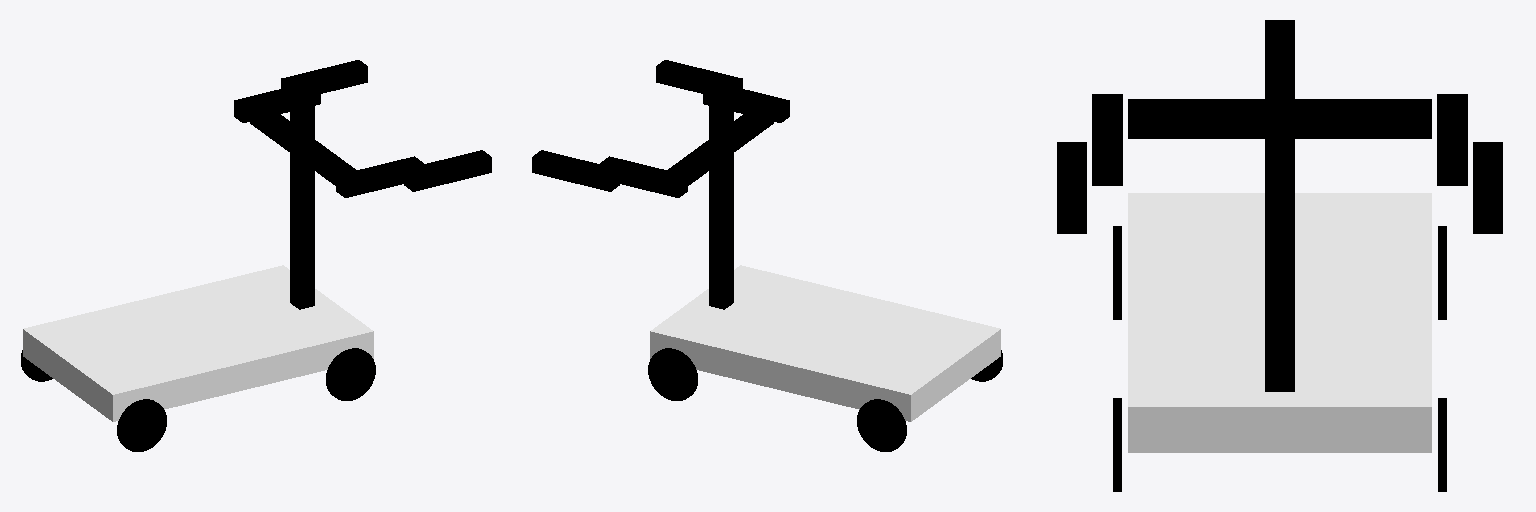
The robot description file, URDF, robot "test_robot":
<?xml version="1.0"?>
<robot name="test_robot">

  <link name="base_link">
    <visual>
      <geometry>
        <box size="0.5 0.3 0.05"/>
      </geometry>
      <origin rpy="0 0 0" xyz="0 0 0.085"/>
      <material name="white">
        <color rgba="1 1 1 1"/>
      </material>
    </visual>
  </link>
  
  <link name="lfwheel">
    <visual>
      <geometry>
        <cylinder length="0.008" radius="0.046"/>
      </geometry>
      <origin rpy="1.5708 0 0" xyz="0 0 0"/>
      <material name="black">
        <color rgba="0 0 0 1"/>
      </material>
    </visual>
  </link>
  
  <joint name="base_to_lfwheel" type="continuous">
    <parent link="base_link"/>
    <child link="lfwheel"/>
    <axis rpy="0 0 0" xyz="0 1 0"/>
    <origin xyz=".2 0.16 0.046" rpy="0 0 0"/>
  </joint>
  

 <link name="lbwheel">
    <visual>
      <geometry>
        <cylinder length="0.008" radius="0.046"/>
      </geometry>
      <origin rpy="1.5708 0 0" xyz="0 0 0"/>
      <material name="black">
        <color rgba="0 0 0 1"/>
      </material>
    </visual>
  </link>
  
  <joint name="base_to_lbwheel" type="continuous">
    <parent link="base_link"/>
    <child link="lbwheel"/>
    <axis rpy="0 0 0" xyz="0 1 0"/>
    <origin xyz="-.2 0.16 0.046" rpy="0 0 0"/>
  </joint>
  

  <link name="rfwheel">
    <visual>
      <geometry>
        <cylinder length="0.008" radius="0.046"/>
      </geometry>
      <origin rpy="1.5708 0 0" xyz="0 0 0"/>
      <material name="black">
        <color rgba="0 0 0 1"/>
      </material>
    </visual>
  </link>
  
  <joint name="base_to_rfwheel" type="continuous">
    <parent link="base_link"/>
    <child link="rfwheel"/>
    <axis rpy="0 0 0" xyz="0 1 0"/>
    <origin xyz= ".2 -0.16 0.046" rpy="0 0 0"/>
  </joint>

 <link name="rbwheel">
    <visual>
      <geometry>
        <cylinder length="0.008" radius="0.046"/>
      </geometry>
      <origin rpy="1.5708 0 0" xyz="0 0 0"/>
      <material name="black">
        <color rgba="0 0 0 1"/>
      </material>
    </visual>
  </link>
  
  <joint name="base_to_rbwheel" type="continuous">
    <parent link="base_link"/>
    <child link="rbwheel"/>
    <axis rpy="0 0 0" xyz="0 1 0"/>
    <origin xyz="-.2 -0.16 0.046" rpy="0 0 0"/>
  </joint>

  <link name="post">
    <visual>
      <geometry>
        <box size=".03 .03 .4"/>
      </geometry>
      <origin rpy="0 0 0" xyz="0 0 .2"/>
      <material name="black">
        <color rgba="0 0 0 1"/>
      </material>
    </visual>
  </link>

  <joint name="post_to_chassis" type="fixed">
    <parent link="base_link"/>
    <child link="post"/>
    <origin xyz=".2 0 .1" rpy="0 0 0"/>
  </joint>
 
  <link name="cross">
    <visual>
      <geometry>
        <box size=".03 .3 .03"/>
      </geometry>
      <origin rpy="0 0 0" xyz="0 0 0"/>
      <material name="black">
        <color rgba="0 0 0 1"/>
      </material>
    </visual>
  </link>

  <joint name="cross_to_post" type="prismatic">
    <parent link="post"/>
    <child link="cross"/>
    <axis xyz="0 0 1"/>
     <limit effort="1000.0" lower="-.2" upper="0" velocity="0.5"/>
    <origin xyz="0 0 .3" rpy="0 0 0"/>
  </joint>



  <link name="upper_arm_l">
    <visual>
      <geometry>
        <box size=".15 .03 .03"/>
      </geometry>
      <origin rpy="0 0 0" xyz=".05 0 0"/>
      <material name="white">
        <color rgba="0 0 0 0"/>
      </material>
    </visual>
  </link>

  <joint name="upper_arm_l_to_cross" type="revolute">
    <parent link="cross"/>
    <child link="upper_arm_l"/>
    <axis xyz="0 1 0"/>
    <limit effort="1000.0" lower="0.0" upper="-0.7" velocity="0.5"/>
    <origin xyz="0 .17 0" rpy="0 0 0"/>
  </joint>

  <link name="forearm_l">
    <visual>
      <geometry>
        <box size=".15 .03 .03"/>
      </geometry>
      <origin rpy="0 0 0" xyz="0.06 0 0"/>
      <material name="black">
        <color rgba="0 0 0 1"/>
      </material>
    </visual>
  </link>

  <joint name="forearm_l_to_upper_arm_l" type="revolute">
    <parent link="upper_arm_l"/>
    <child link="forearm_l"/>
    <axis xyz="0 1 0"/>
   <limit effort="1000.0" lower="0.0" upper="-0.7" velocity="0.5"/>
    <origin xyz=".1 .035 0" rpy="0 0 0"/>
  </joint>

  <link name="upper_arm_r">
    <visual>
      <geometry>
        <box size=".15 .03 .03"/>
      </geometry>
      <origin rpy="0 0 0" xyz=".05 0 0"/>
      <material name="white">
        <color rgba="0 0 0 0"/>
      </material>   
    </visual>
  </link>

  <joint name="upper_arm_r_to_cross" type="revolute">
    <parent link="cross"/>
    <child link="upper_arm_r"/>
    <axis xyz="0 1 0"/>
    <limit effort="1000.0" lower="0.0" upper="-0.7" velocity="0.5"/>
    <origin xyz="0 -.17 0" rpy="0 0 0"/>
  </joint>

  <link name="forearm_r">
    <visual>
      <geometry>
        <box size=".15 .03 .03"/>
      </geometry>
      <origin rpy="0 0 0" xyz=".06 0 0"/>
      <material name="black">
        <color rgba="0 0 0 1"/>
      </material>
    </visual>
  </link>

  <joint name="forearm_r_to_upper_arm_r" type="revolute">
    <parent link="upper_arm_r"/>
    <child link="forearm_r"/>
    <axis xyz="0 1 0"/>
    <limit effort="1000.0" lower="0.0" upper="-0.7" velocity="0.5"/>
    <origin xyz=".1 -.035 0" rpy="0 0 0"/>
  </joint>
  
</robot>

--- Render facts (derived) ---
Views: 3 orthographic renders of the robot side by side, from view 1: azimuth 30°, elevation 25°; view 2: azimuth 150°, elevation 25°; view 3: azimuth 270°, elevation 25°.
Robot: test_robot — 11 links, 10 joints (4 revolute, 4 continuous, 1 prismatic, 1 fixed); root link base_link; default pose: every joint at zero.
Visible links, largest first — view 1: base_link, post, cross, forearm_r, rfwheel, rbwheel, upper_arm_r, forearm_l, upper_arm_l; view 2: base_link, post, cross, forearm_l, lfwheel, lbwheel, upper_arm_l, forearm_r, upper_arm_r; view 3: base_link, cross, post, upper_arm_l, upper_arm_r, forearm_l, forearm_r, lfwheel, lbwheel, rfwheel, rbwheel.
Link boxes in pixels (box(x1,y1,x2,y2)): base_link: box(23, 265, 373, 421); post: box(290, 86, 314, 309); cross: box(250, 103, 355, 185); forearm_r: box(404, 150, 491, 191); rfwheel: box(326, 348, 375, 400); rbwheel: box(117, 399, 166, 451); upper_arm_r: box(336, 156, 423, 197); forearm_l: box(281, 60, 367, 93); upper_arm_l: box(234, 81, 320, 122); base_link: box(650, 265, 1000, 421); post: box(709, 86, 733, 309); cross: box(668, 103, 773, 185); forearm_l: box(532, 150, 619, 191); lfwheel: box(648, 348, 697, 400); lbwheel: box(857, 399, 906, 451); upper_arm_l: box(600, 156, 687, 197); forearm_r: box(656, 60, 742, 93); upper_arm_r: box(703, 81, 789, 122); base_link: box(1128, 193, 1431, 452); cross: box(1128, 99, 1431, 138); post: box(1265, 20, 1294, 391); upper_arm_l: box(1437, 94, 1467, 185); upper_arm_r: box(1092, 94, 1122, 185); forearm_l: box(1473, 142, 1502, 233); forearm_r: box(1057, 142, 1086, 233); lfwheel: box(1438, 398, 1446, 491); lbwheel: box(1438, 226, 1446, 319); rfwheel: box(1113, 398, 1121, 491); rbwheel: box(1113, 226, 1121, 319).
Size in the robot's own frame: 0.685 by 0.44 by 0.5 metres.
Geometry: primitives only (box / cylinder / sphere), no mesh files.